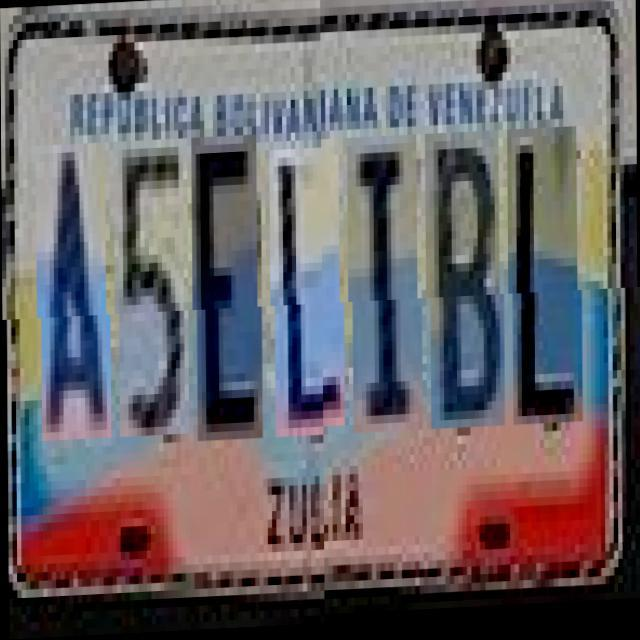5: (118, 140, 188, 438)
A: (40, 144, 110, 442)
B: (430, 144, 504, 442)
E: (195, 138, 262, 444)
I: (352, 147, 422, 446)
L: (512, 141, 582, 439), (274, 150, 344, 440)
